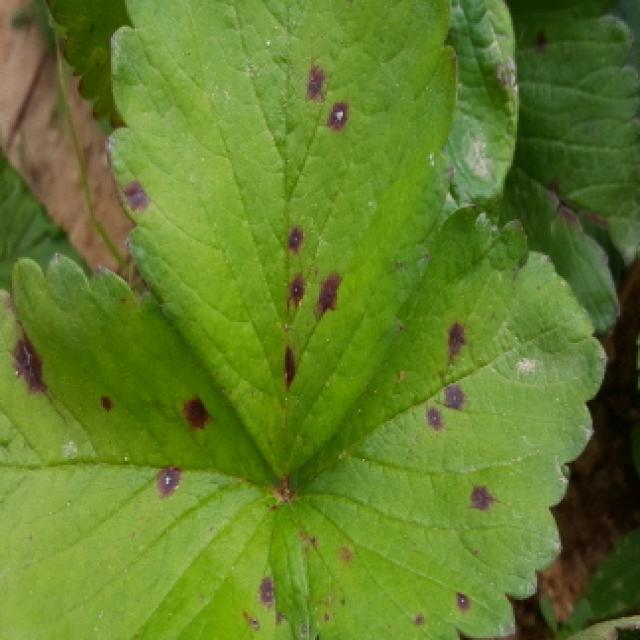Leaf Spot: (104, 0, 462, 483), (275, 200, 609, 640), (0, 247, 308, 640), (502, 0, 640, 336)
